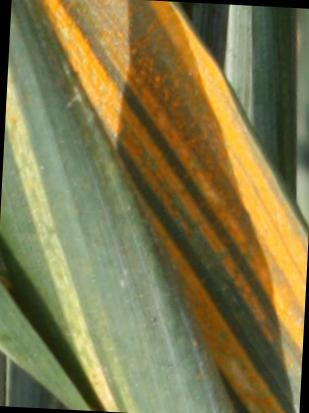Wheat: (188, 93, 233, 316), (127, 3, 181, 177), (53, 2, 118, 122), (239, 159, 269, 289), (277, 224, 306, 305)
